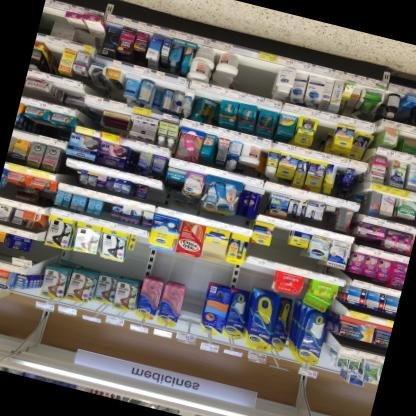empty_space: (242, 56, 277, 95), (239, 259, 275, 289), (272, 225, 288, 249)
